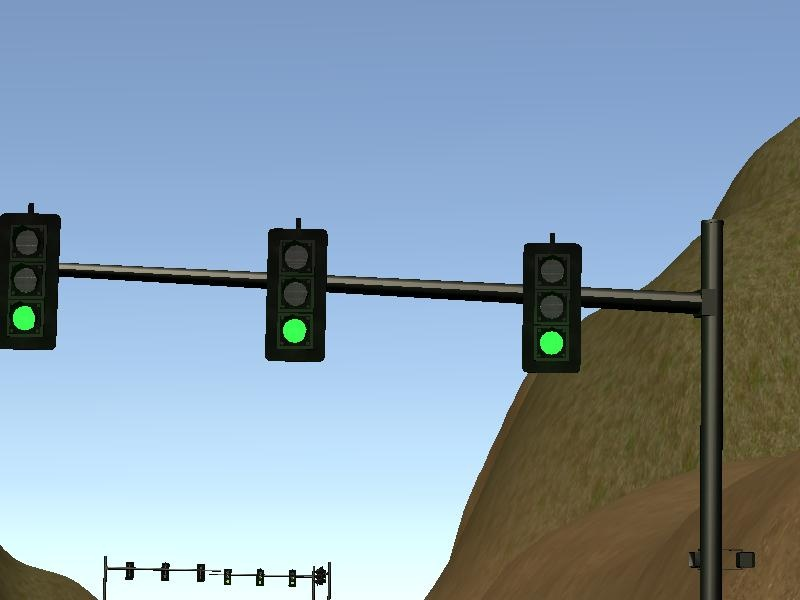GREEN: (1, 212, 60, 352), (265, 226, 323, 364), (521, 243, 580, 371)
